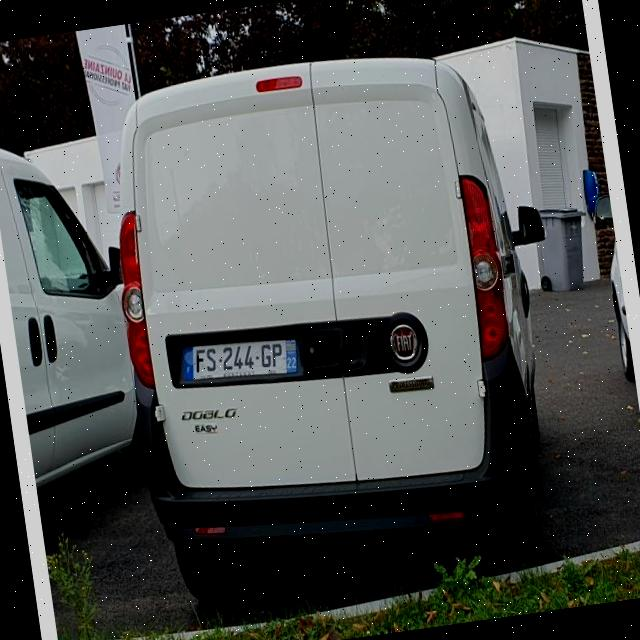EU: (179, 336, 300, 381)
France: (182, 343, 197, 380)
